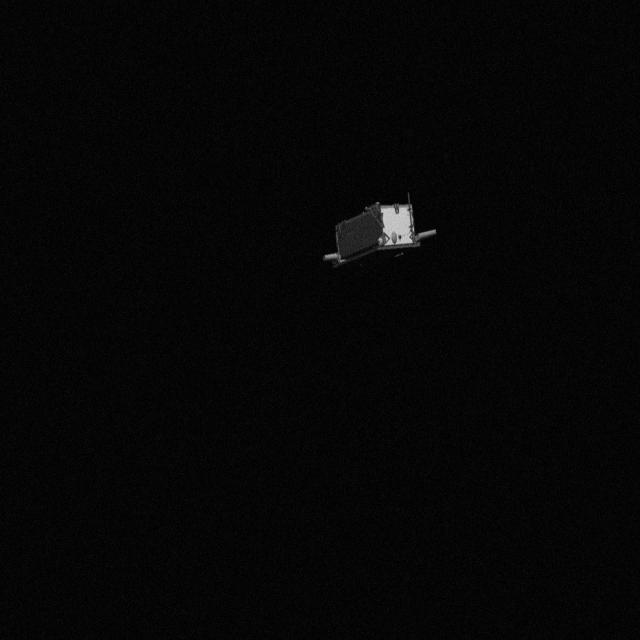medium_debris: (322, 198, 442, 278)
